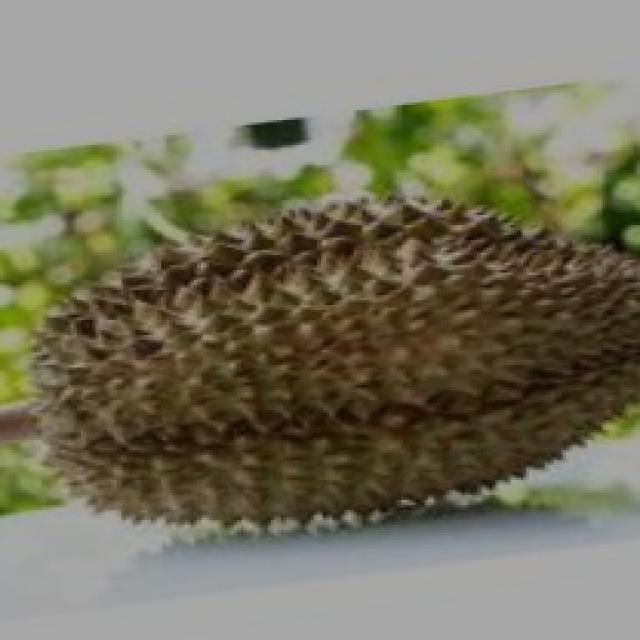fruit: (252, 160, 640, 578), (3, 200, 366, 595)
